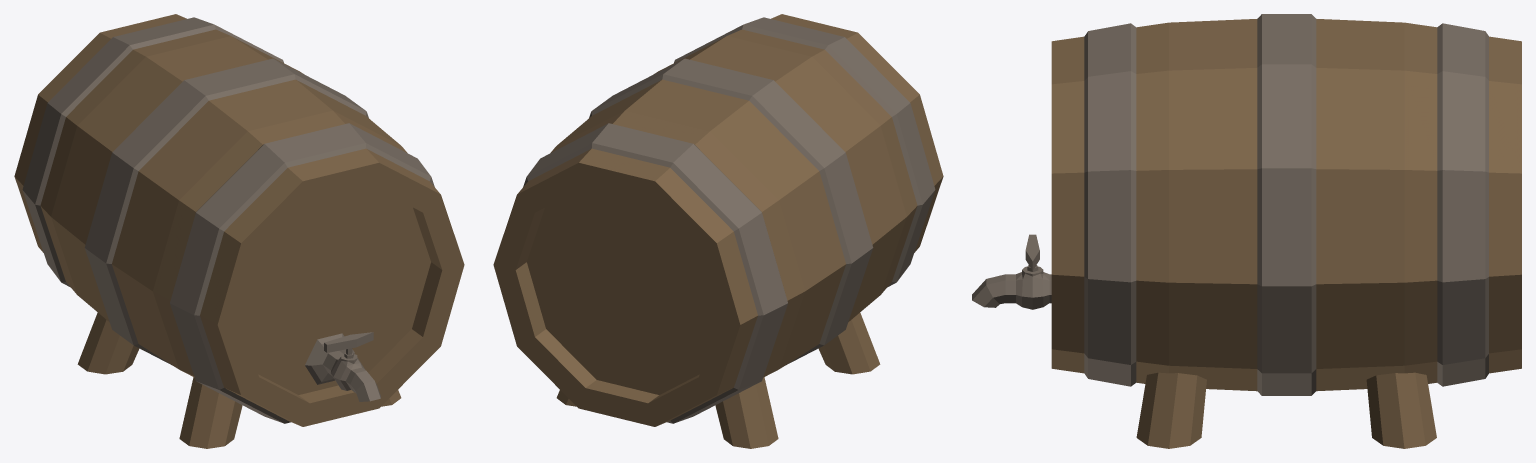
The model's file is Keg_Mesh.fbx.
3 renders of one model, left to right at view 1: azimuth 30°, elevation 25°; view 2: azimuth 150°, elevation 25°; view 3: azimuth 270°, elevation 25°, orthographic. The views are drawn at different scales.
Parts seen in each view (by area): view 1: Keg; view 2: Keg; view 3: Keg.
Part boxes in pixels (x1,y1,x2,y2): Keg: (14, 14, 464, 448); Keg: (493, 14, 943, 448); Keg: (972, 14, 1521, 448).
Size of the model in its own units: 58.33 by 58.46 by 83.3.
